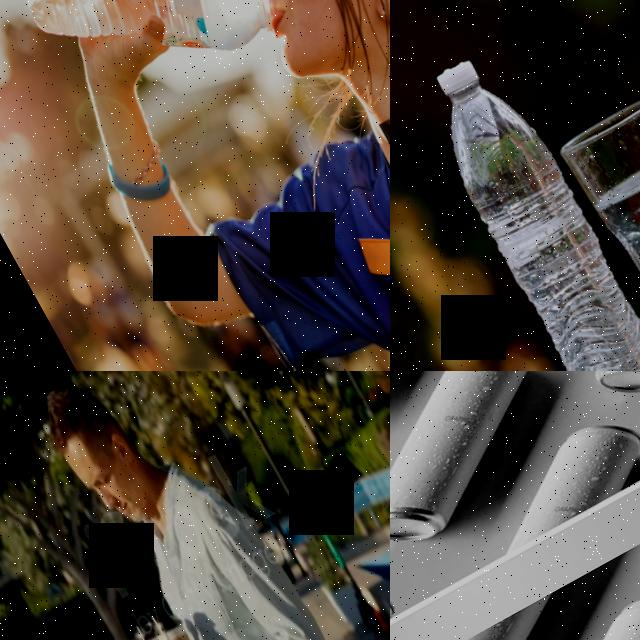bottle: (405, 39, 640, 371), (0, 0, 288, 132)
can: (390, 371, 591, 563), (468, 403, 640, 555), (445, 568, 640, 640), (396, 590, 586, 640)
cup: (148, 606, 208, 640), (124, 610, 183, 640)
